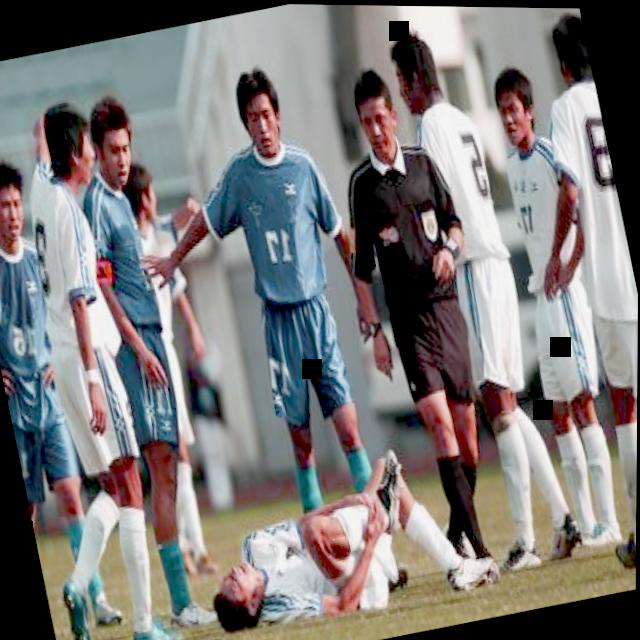Fall-Detected: (185, 408, 512, 640)
